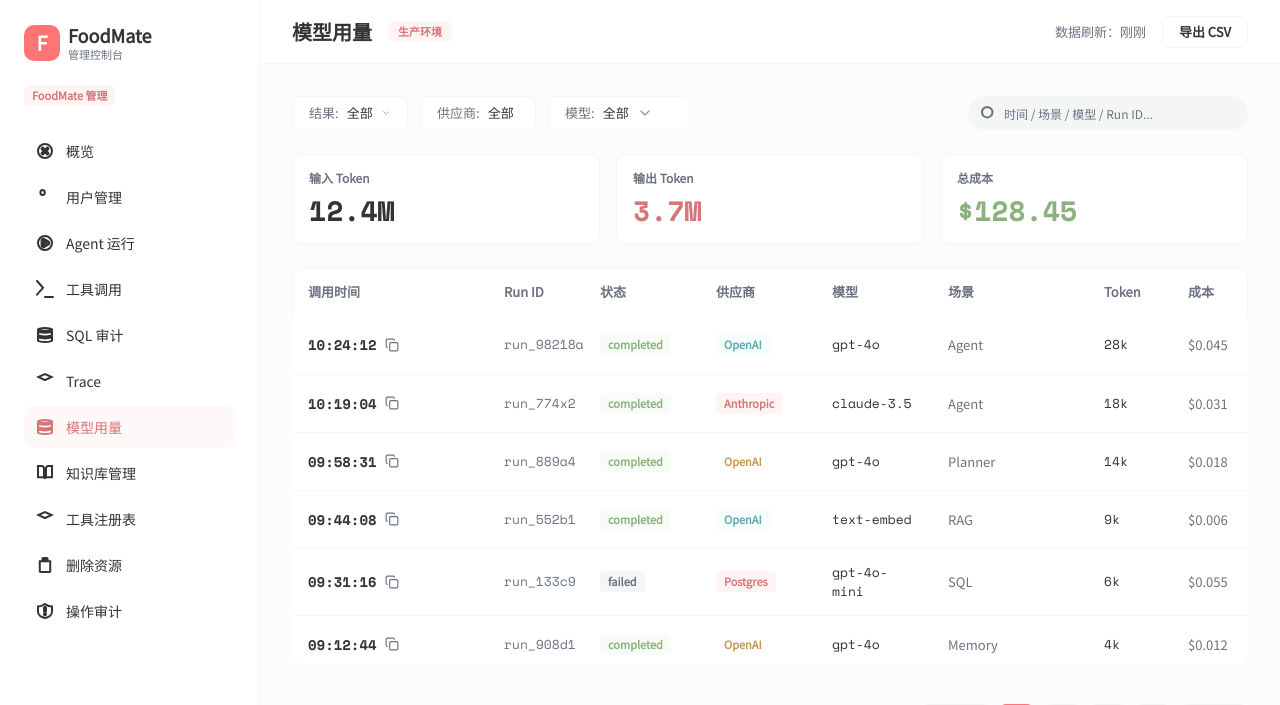
it: Admin model usage Figma fixture › filters usage rows and copies a run id from the Figma table
Type "run_774x2" into the field with placeholder "时间 / 场景 / 模型 / Run ID...".
click(1120, 113); type("run_774x2")  # box top-left (1004, 97), bottom-right (1236, 129)
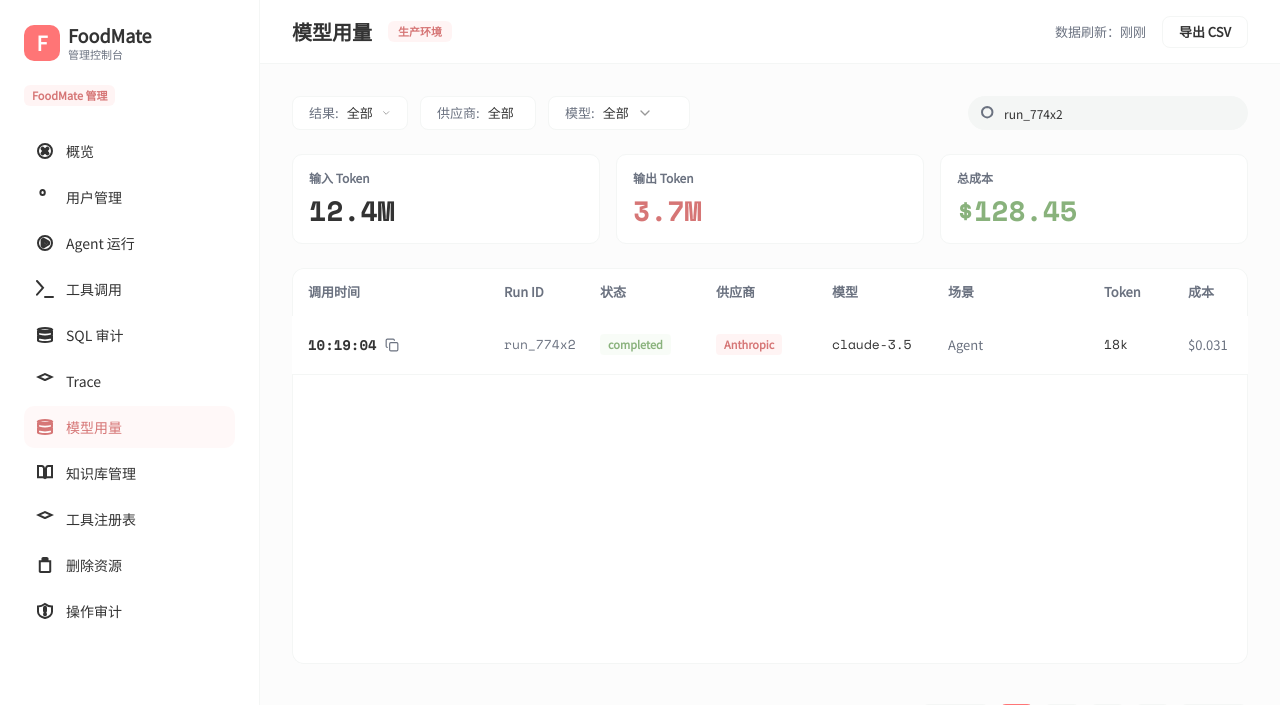
Expected: the text "run_774x2" is shown, top-left (488, 316), bottom-right (584, 374)
Expected: the text "run_98218a" is gone
Click the button named "复制 run_774x2".
click(392, 345)  # box top-left (384, 338), bottom-right (398, 352)
(page scrolled)
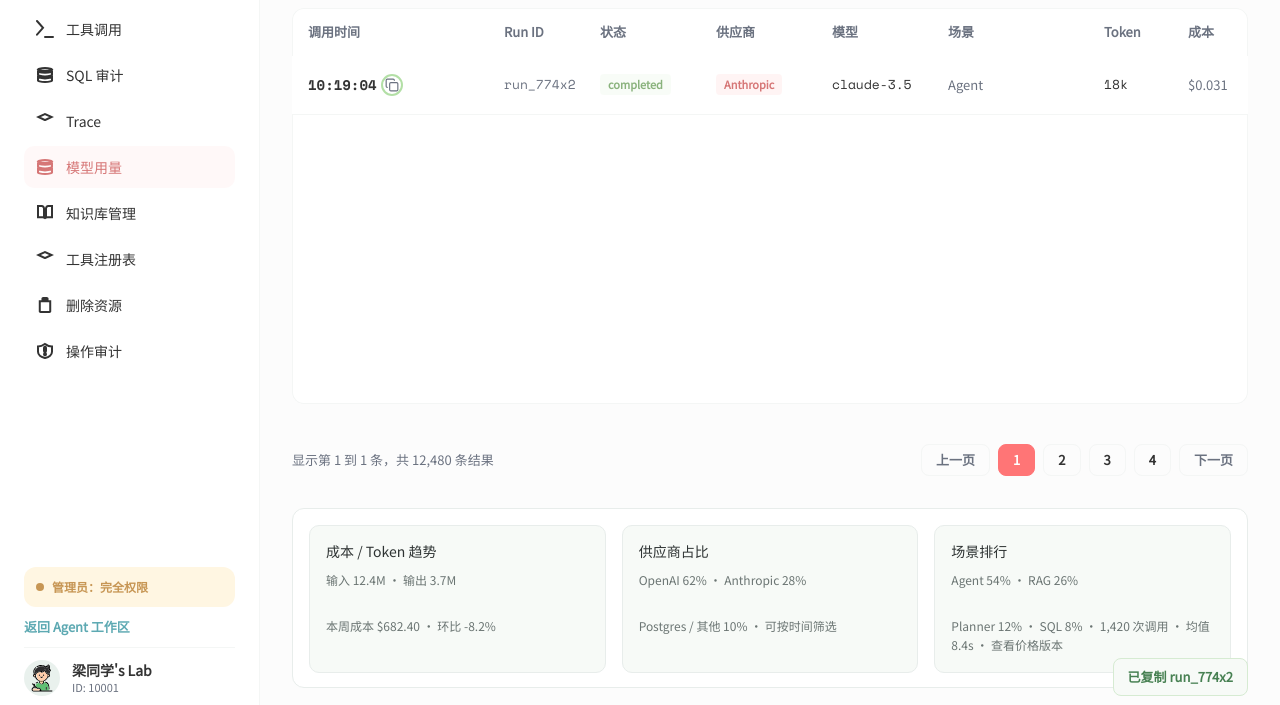
Expected: the message reads "已复制 run_774x2", top-left (1113, 658), bottom-right (1248, 696)
